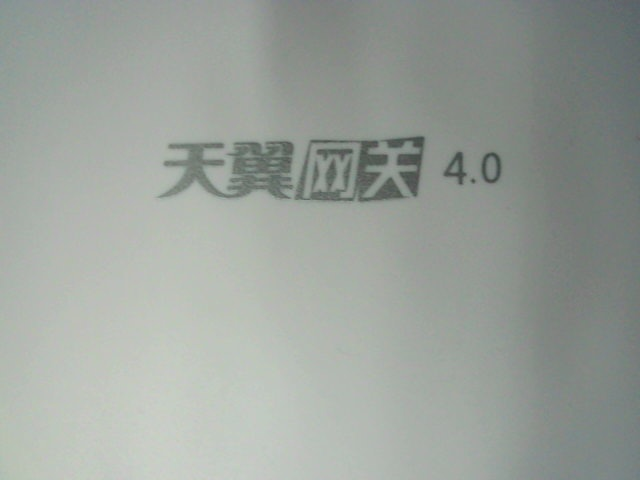BM_TianYiWangGuan: (154, 133, 502, 200)
